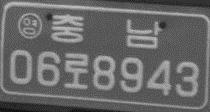0: (8, 49, 33, 84)
3: (174, 60, 200, 98)
4: (146, 59, 172, 96)
6: (37, 50, 60, 87)
8: (91, 54, 116, 91)
9: (119, 56, 144, 93)
로: (62, 52, 89, 90)
영: (17, 12, 43, 40)
충남_D: (50, 12, 162, 48)
